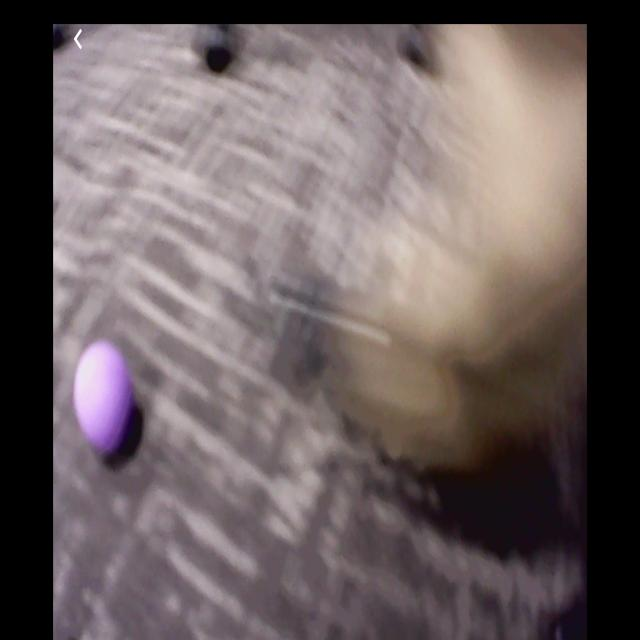ball: (77, 341, 133, 452)
